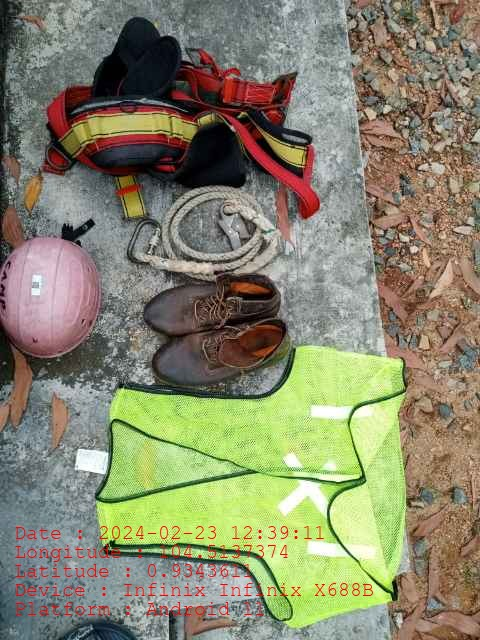SEPATU: (143, 274, 291, 379)
TAMBANG_SLING: (127, 179, 288, 274)
